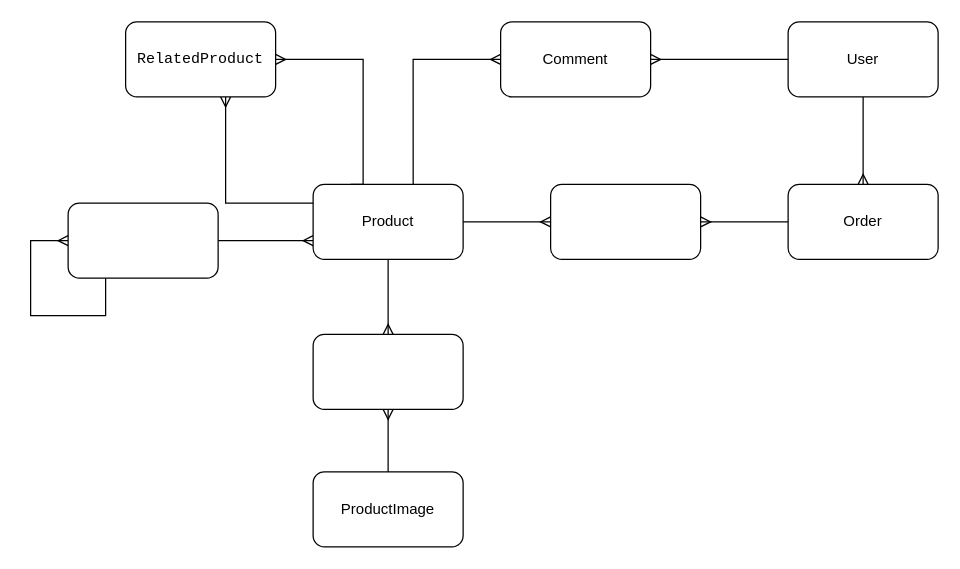
This 960x569 diagram has some shape labels left out. The shapes that lost their labels are listed below. From the top down, each one's centre as x and y in pixels, then its label:
the point at 142,240: Category
the point at 625,221: OrderProduct
the point at 387,371: ProductProductImage
